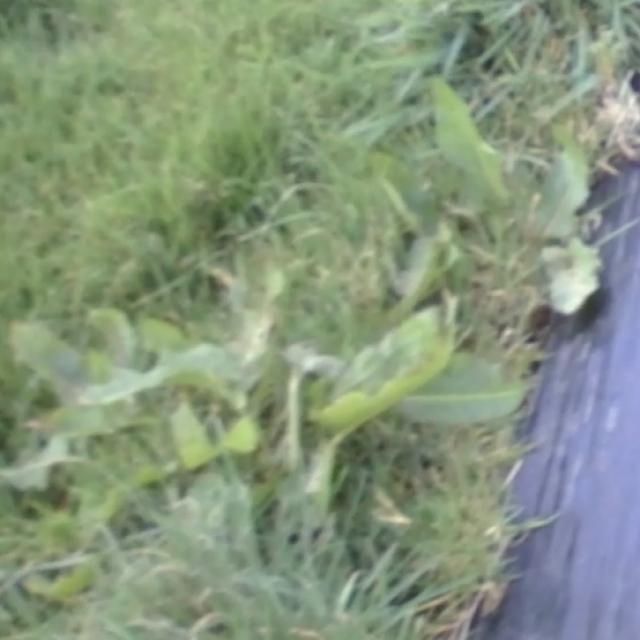organic waste: (4, 215, 503, 534), (274, 73, 624, 330)
